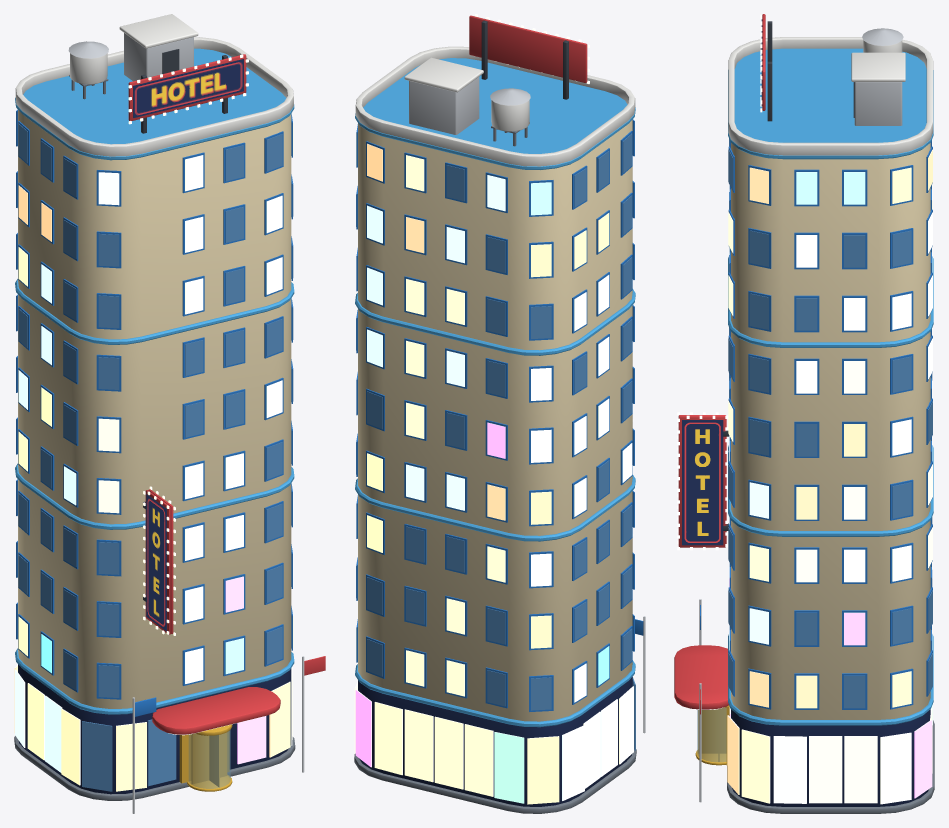
The model's file is hotel.glb.
3 renders of one model, left to right at view 1: azimuth 30°, elevation 25°; view 2: azimuth 150°, elevation 25°; view 3: azimuth 270°, elevation 25°, orthographic. The views are drawn at different scales.
Visible parts, largest first — view 1: hotel; view 2: hotel; view 3: hotel.
Boxes of the visible parts, bbox=[...] form: hotel: bbox=[14, 14, 325, 813]; hotel: bbox=[354, 14, 645, 813]; hotel: bbox=[674, 14, 934, 813].
Size of the model in its own units: 11.96 by 36.51 by 11.98.
Materials: 11 (2 with a texture image).
